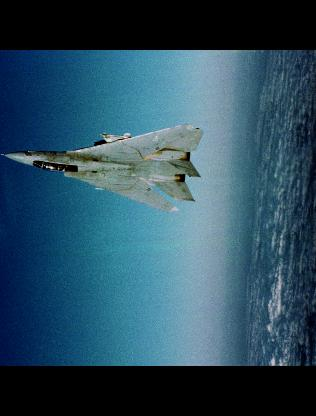EF2000: (0, 123, 204, 214)
